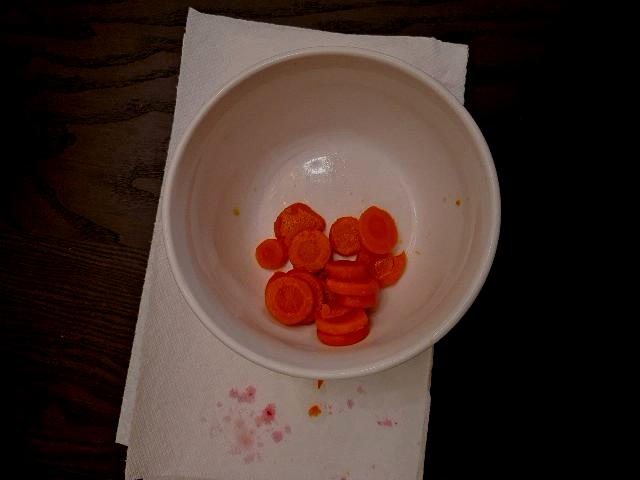kichen waste: (256, 203, 406, 346)
